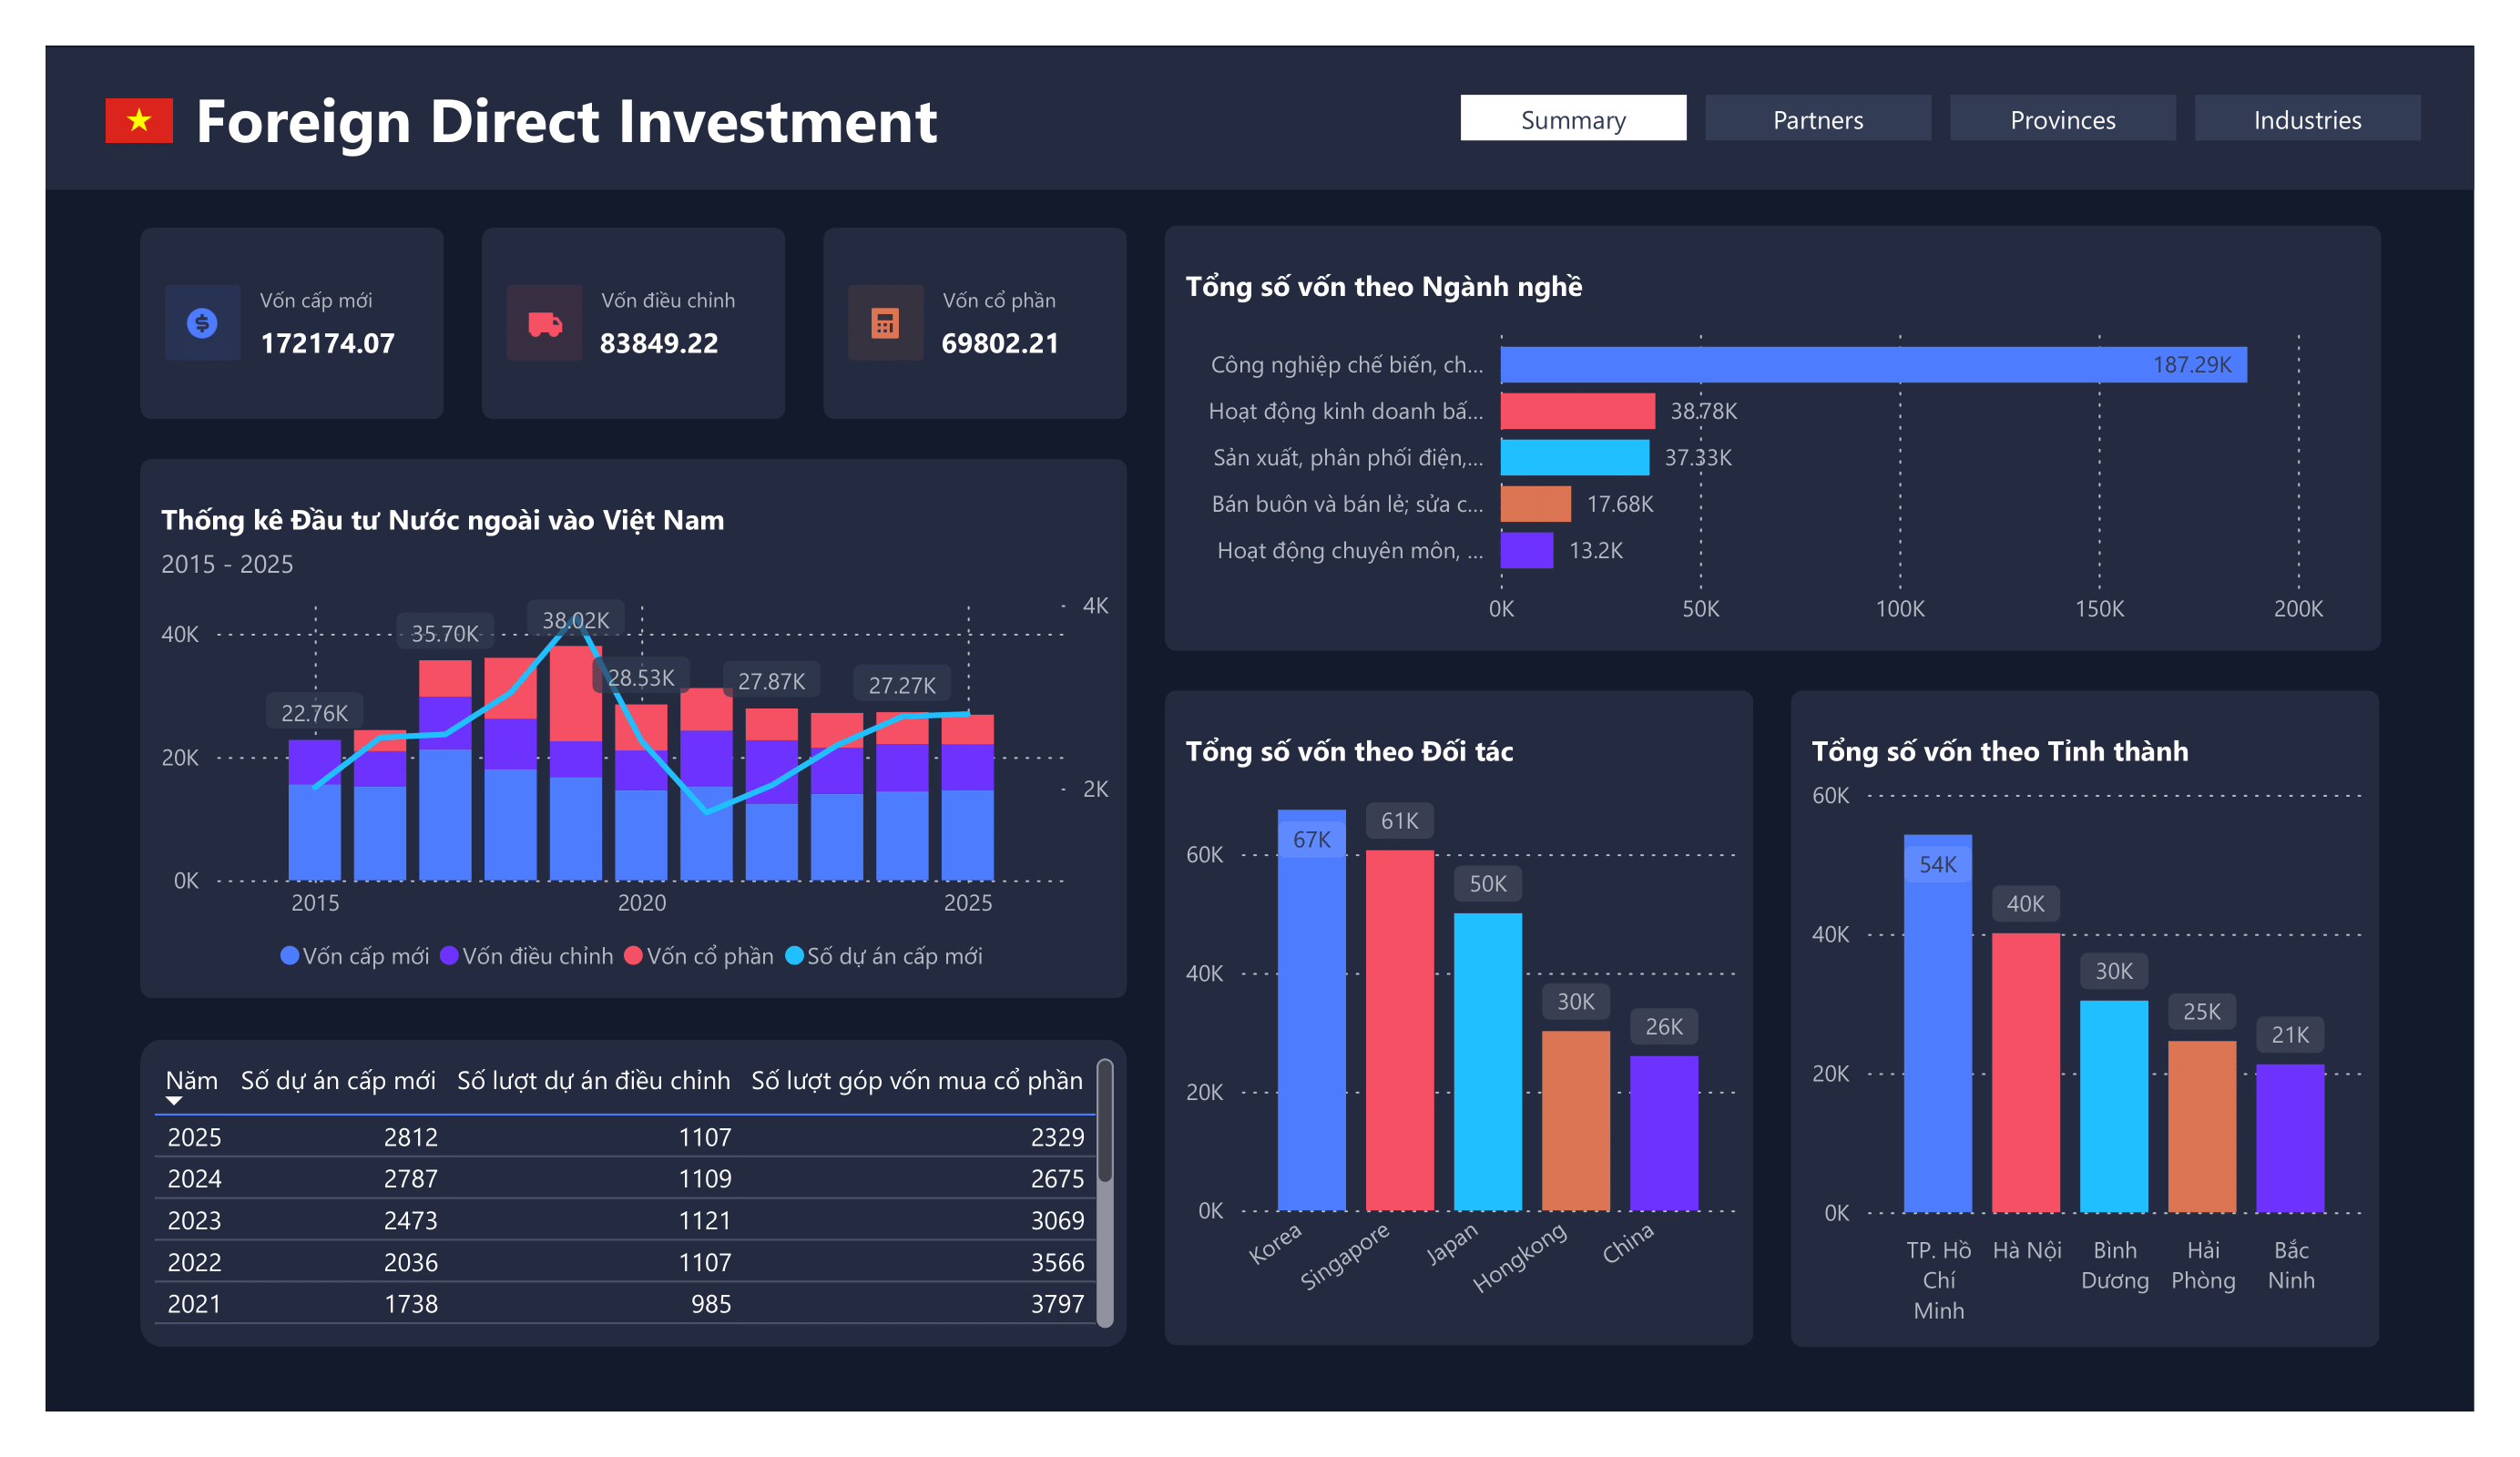

The page's visual inventory and layout, read from the dashboard file:
{"tool":"powerbi","page":{"name":"Summary","canvas":[1280,720],"ordinal":0},"visuals":[{"type":"group","id":"g1","title":"Group 7","box":[50,95.6,160,100.9],"z":0,"group":"g2"},{"type":"shape","box":[230,95.6,160,101.3],"z":0,"group":"g3"},{"type":"shape","box":[410,95.6,160,100.8],"z":0,"group":"g4"},{"type":"shape","box":[50,524.3,520,161.4],"z":0},{"type":"shape","box":[0,0.8,1280,75],"z":1000},{"type":"shape","box":[112.7,125.6,97.3,20],"z":1000,"group":"g2"},{"type":"shape","box":[243.3,125.9,40,40],"z":1000,"group":"g3"},{"type":"shape","box":[422.9,126,40,40],"z":1000,"group":"g4"},{"type":"shape","box":[60.8,0,427.7,74.6],"z":2000},{"type":"shape","box":[292.7,125.6,97.3,20.9],"z":2000,"group":"g3"},{"type":"image","box":[428.5,131,28.9,30],"z":2000,"group":"g4"},{"type":"multiRowCard","fields":{"Values":["Sum(fdi_country_partners_en_clean.Vốn đăng ký cấp mới (triệu USD))"]},"box":[112.9,145.8,97.1,35.9],"z":2000,"group":"g2"},{"type":"image","box":[25.7,23.2,47.3,32.4],"z":3000},{"type":"shape","box":[472.7,125.6,97.3,20.9],"z":3000,"group":"g4"},{"type":"image","box":[249.2,130.9,28.3,30],"z":3000,"group":"g3"},{"type":"group","id":"g2","title":"Group 2","box":[50,95.6,160,101.1],"z":4000},{"type":"shape","box":[50,95.6,160,100.9],"z":4000,"group":"g1"},{"type":"multiRowCard","fields":{"Values":["Sum(fdi_country_partners_en_clean.Vốn đăng ký điều chỉnh (triệu USD))"]},"box":[292.2,145.8,97.8,35.6],"z":4000,"group":"g3"},{"type":"multiRowCard","fields":{"Values":["Sum(fdi_country_partners_en_clean.Giá trị góp vốn, mua cổ phần (triệu USD))"]},"box":[472.2,145.8,97.8,35.6],"z":4000,"group":"g4"},{"type":"group","id":"g3","title":"Group 4","box":[230,95.6,160,101.1],"z":5000},{"type":"group","id":"g4","title":"Group 8","box":[410,95.6,160,102.2],"z":6000},{"type":"clusteredBarChart","title":"Tổng số vốn theo Ngành nghề","fields":{"Category":["fdi_industry_vi_clean.Ngành"],"Y":["fdi_industry_vi_clean.Total_Industries"]},"box":[590,95.3,640.7,224],"z":7000},{"type":"columnChart","title":"Tổng số vốn theo Tỉnh thành","fields":{"Y":["fdi_provinces_vi_clean.Total_Provinces"],"Category":["fdi_provinces_vi_clean.Đối tác"]},"box":[920,340,310,345.7],"z":8000},{"type":"tableEx","fields":{"Values":["fdi_country_partners_en_clean.Năm","Sum(fdi_country_partners_en_clean.Số dự án cấp mới)","Sum(fdi_country_partners_en_clean.Số lượt dự án điều chỉnh)","Sum(fdi_country_partners_en_clean.Số lượt góp vốn mua cổ phần)"]},"box":[50,524.3,520,161.4],"z":9000},{"type":"pageNavigator","box":[746,26.2,507,24],"z":10000},{"type":"lineStackedColumnComboChart","title":"Thống kê Đầu tư Nước ngoài vào Việt Nam","fields":{"Category":["fdi_country_partners_en_clean.Năm"],"Y":["Sum(fdi_country_partners_en_clean.Vốn đăng ký cấp mới (triệu USD))","Sum(fdi_country_partners_en_clean.Vốn đăng ký điều chỉnh (triệu USD))","Sum(fdi_country_partners_en_clean.Giá trị góp vốn, mua cổ phần (triệu USD))"],"Y2":["Sum(fdi_country_partners_en_clean.Số dự án cấp mới)"]},"box":[50,217.7,520,284.6],"z":11000},{"type":"columnChart","title":"Tổng số vốn theo Đối tác","fields":{"Category":["fdi_country_partners_en_clean.Đối tác"],"Y":["fdi_country_partners_en_clean.Total_Partners"]},"box":[590,340,310,345],"z":12000},{"type":"shape","box":[63.3,125.9,40,40.3],"z":22000,"group":"g5"},{"type":"image","box":[68.8,131.2,29,30.3],"z":23000,"group":"g5"},{"type":"group","id":"g5","title":"Group 1","box":[63.3,125.9,40,40.3],"z":25000,"group":"g1"}]}

Visuals, with their boxes on the page's 1280x720 design canvas (x1, y1, x2, y2). These are canvas units, not pixel positions in the 2520x1457 screenshot, which may show the page scaled, cropped or inside an application window:
"Group 7" group: detection(50, 96, 210, 196)
shape: detection(230, 96, 390, 197)
shape: detection(410, 96, 570, 196)
shape: detection(50, 524, 570, 686)
shape: detection(0, 1, 1280, 76)
shape: detection(113, 126, 210, 146)
shape: detection(243, 126, 283, 166)
shape: detection(423, 126, 463, 166)
shape: detection(61, 0, 488, 75)
shape: detection(293, 126, 390, 146)
image: detection(428, 131, 457, 161)
multiRowCard - Sum(fdi_country_partners_en_clean.Vốn đăng ký cấp mới (triệu USD)): detection(113, 146, 210, 182)
image: detection(26, 23, 73, 56)
shape: detection(473, 126, 570, 146)
image: detection(249, 131, 278, 161)
"Group 2" group: detection(50, 96, 210, 197)
shape: detection(50, 96, 210, 196)
multiRowCard - Sum(fdi_country_partners_en_clean.Vốn đăng ký điều chỉnh (triệu USD)): detection(292, 146, 390, 181)
multiRowCard - Sum(fdi_country_partners_en_clean.Giá trị góp vốn, mua cổ phần (triệu USD)): detection(472, 146, 570, 181)
"Group 4" group: detection(230, 96, 390, 197)
"Group 8" group: detection(410, 96, 570, 198)
"Tổng số vốn theo Ngành nghề" clusteredBarChart: detection(590, 95, 1231, 319)
"Tổng số vốn theo Tỉnh thành" columnChart: detection(920, 340, 1230, 686)
tableEx - fdi_country_partners_en_clean.Năm x Sum(fdi_country_partners_en_clean.Số dự án cấp mới): detection(50, 524, 570, 686)
pageNavigator: detection(746, 26, 1253, 50)
"Thống kê Đầu tư Nước ngoài vào Việt Nam" lineStackedColumnComboChart: detection(50, 218, 570, 502)
"Tổng số vốn theo Đối tác" columnChart: detection(590, 340, 900, 685)
shape: detection(63, 126, 103, 166)
image: detection(69, 131, 98, 162)
"Group 1" group: detection(63, 126, 103, 166)
